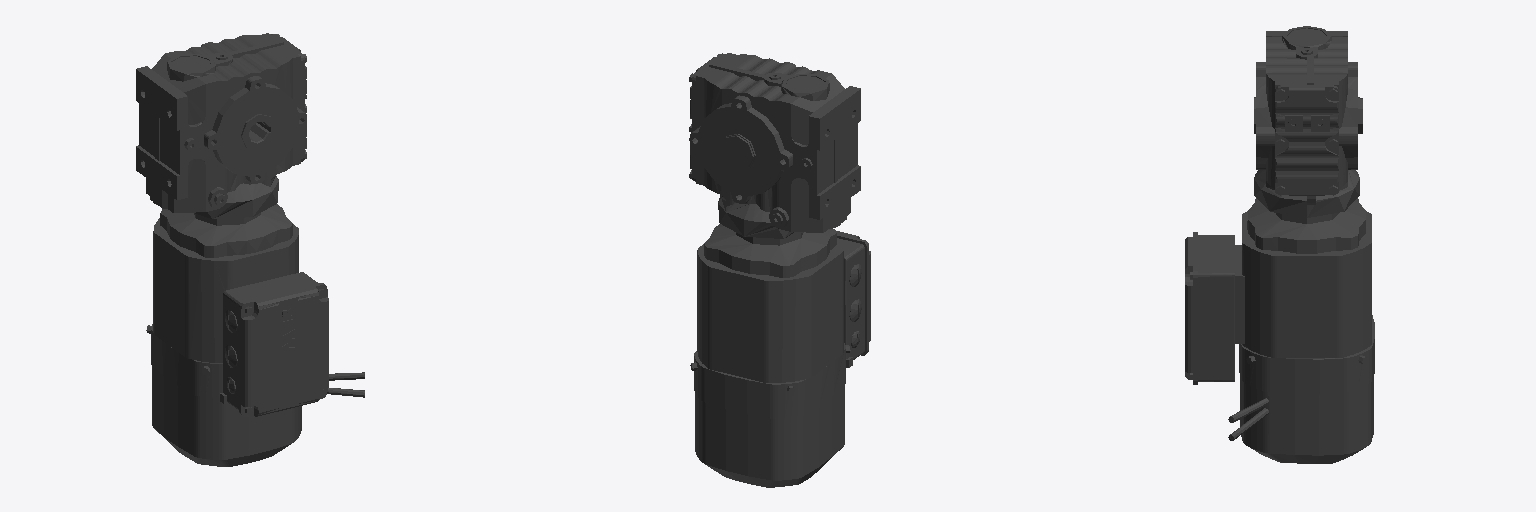
Rendered from sew3obj.obj.
3 renders of one model, left to right at view 1: azimuth 30°, elevation 25°; view 2: azimuth 150°, elevation 25°; view 3: azimuth 270°, elevation 25°, orthographic.
Parts seen in each view (by area): view 1: SA47DRS80S4BE1HRvkhvvu4tggstiv0znofwqvgu; view 2: SA47DRS80S4BE1HRvkhvvu4tggstiv0znofwqvgu; view 3: SA47DRS80S4BE1HRvkhvvu4tggstiv0znofwqvgu.
Boxes of the visible parts, x1=… form: SA47DRS80S4BE1HRvkhvvu4tggstiv0znofwqvgu: x1=136, y1=33, x2=364, y2=466; SA47DRS80S4BE1HRvkhvvu4tggstiv0znofwqvgu: x1=689, y1=53, x2=870, y2=487; SA47DRS80S4BE1HRvkhvvu4tggstiv0znofwqvgu: x1=1185, y1=26, x2=1374, y2=463.
Bounding box in the file's own units: 9.24 × 20 × 8.86.